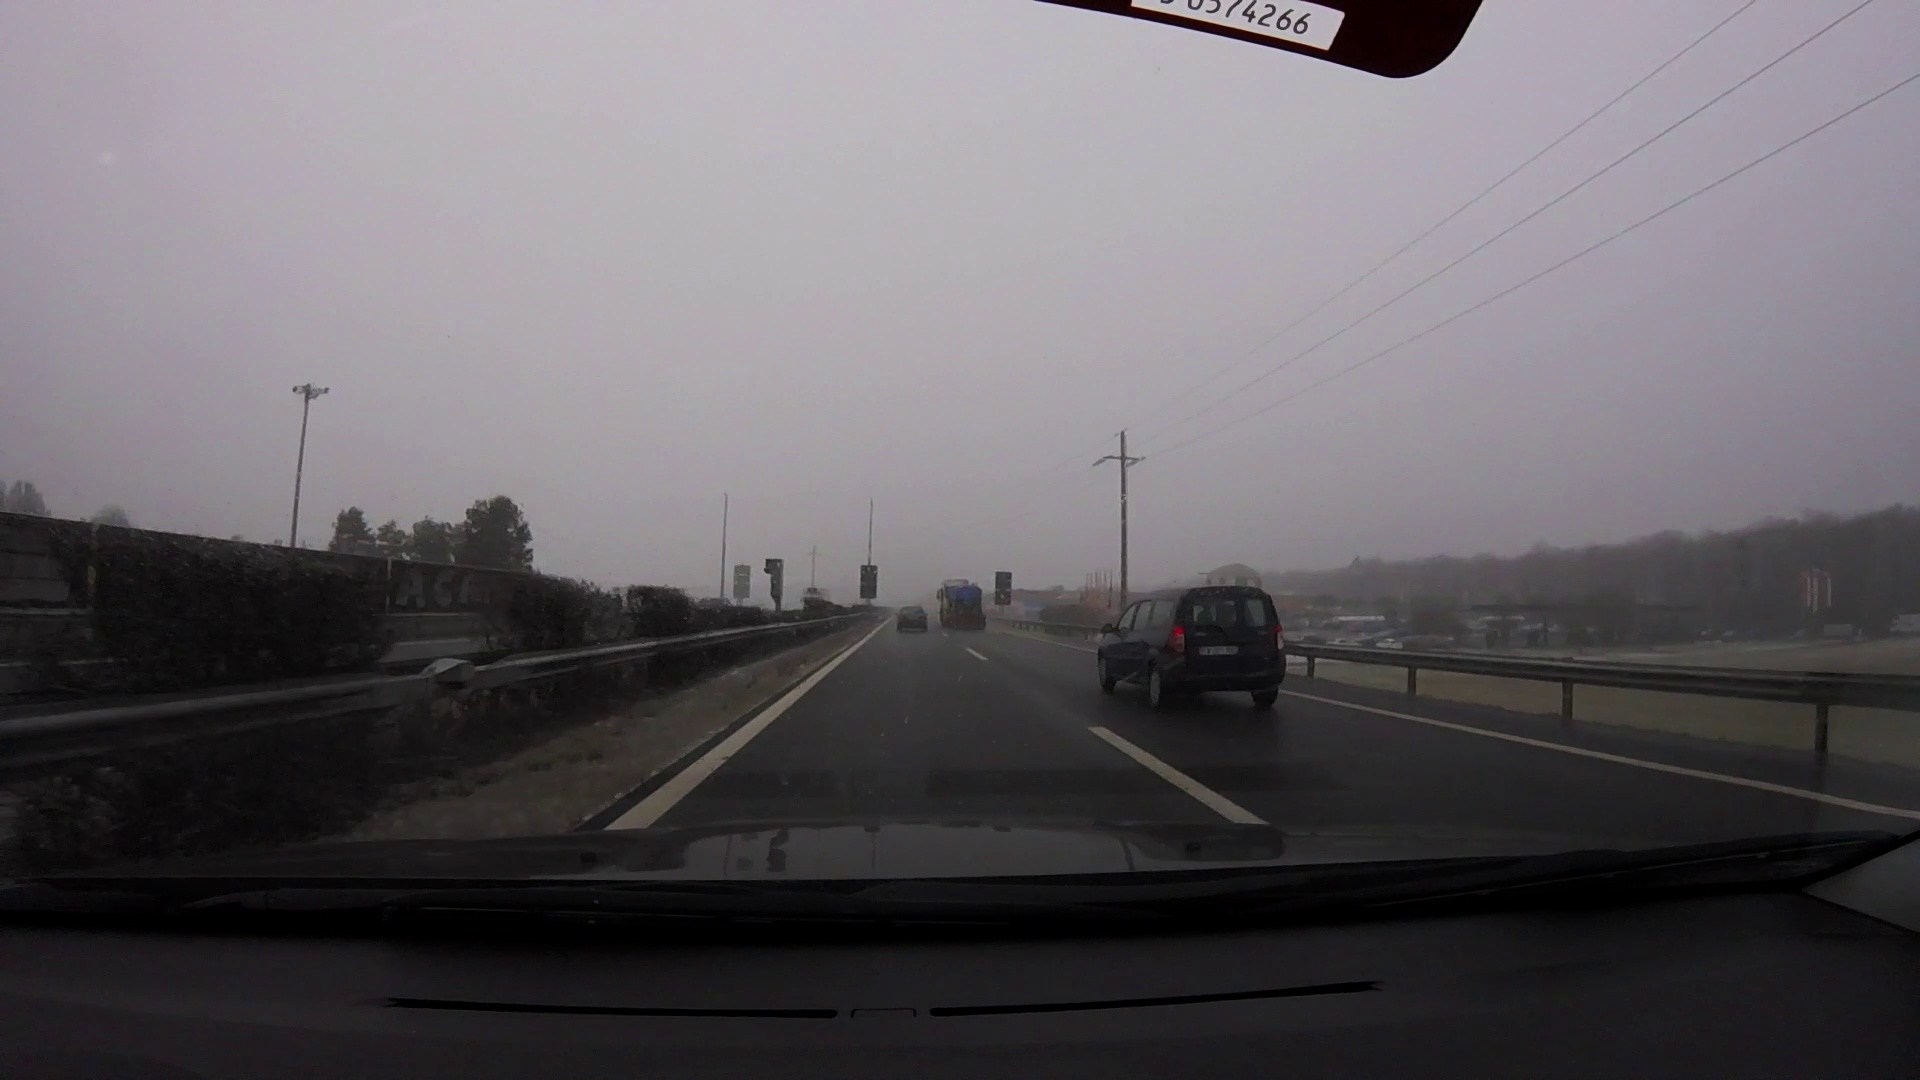radar: (764, 556, 787, 609)
